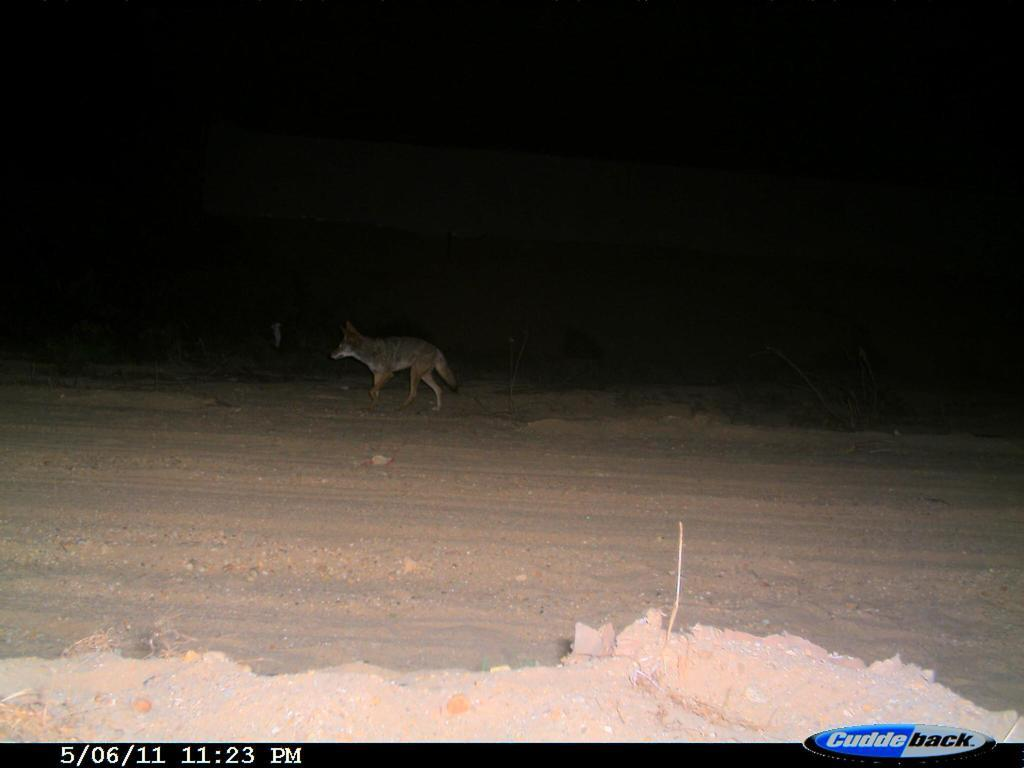coyote: (328, 319, 461, 413)
